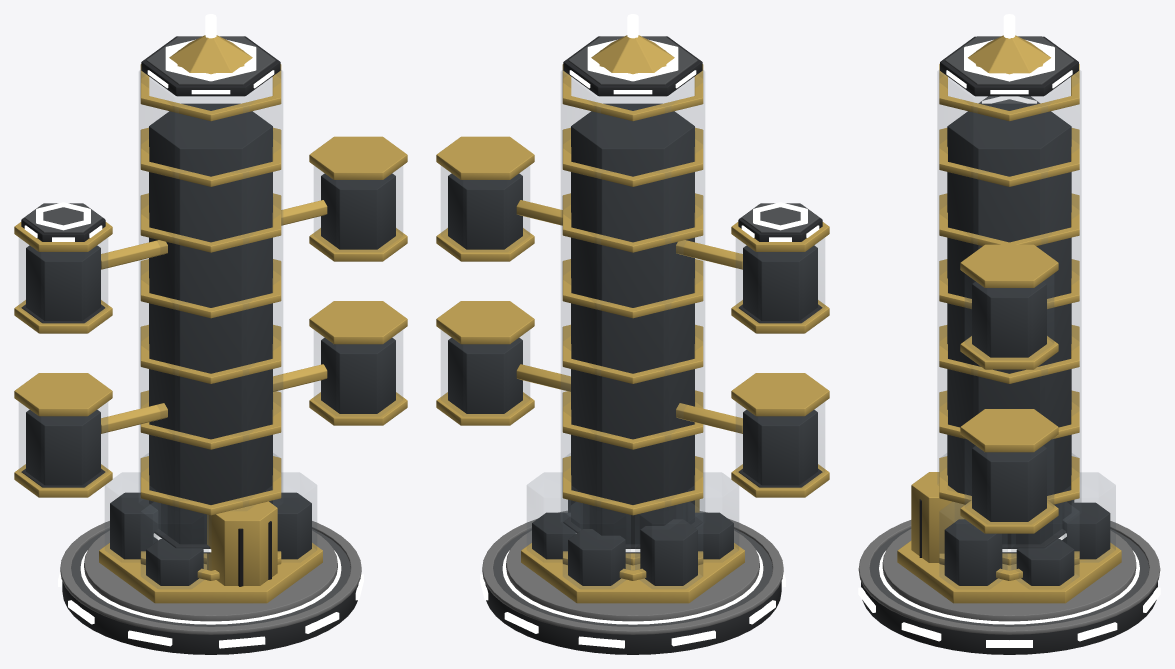
The model's file is Skin_Hive_T4.glb.
The picture shows the model from 3 angles, left to right: view 1: azimuth 30°, elevation 25°; view 2: azimuth 150°, elevation 25°; view 3: azimuth 270°, elevation 25°; orthographic projection.
Parts seen in each view (by area): view 1: Skin_Hive_T4; view 2: Skin_Hive_T4; view 3: Skin_Hive_T4.
Boxes of the visible parts, box(x1,y1,x2,y2) form: Skin_Hive_T4: box(14, 14, 407, 654); Skin_Hive_T4: box(436, 14, 829, 654); Skin_Hive_T4: box(858, 14, 1160, 654).
Size of the model in its own units: 5.88 by 8.78 by 4.17.
